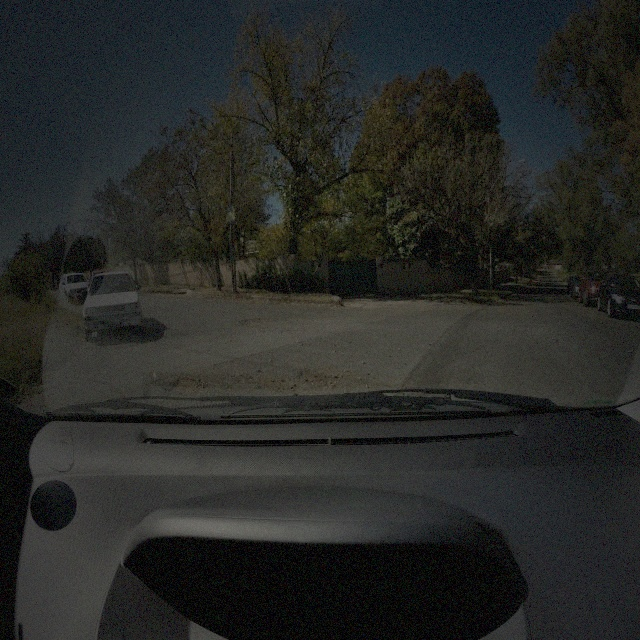pothole: (174, 375, 206, 396), (238, 314, 276, 331)
